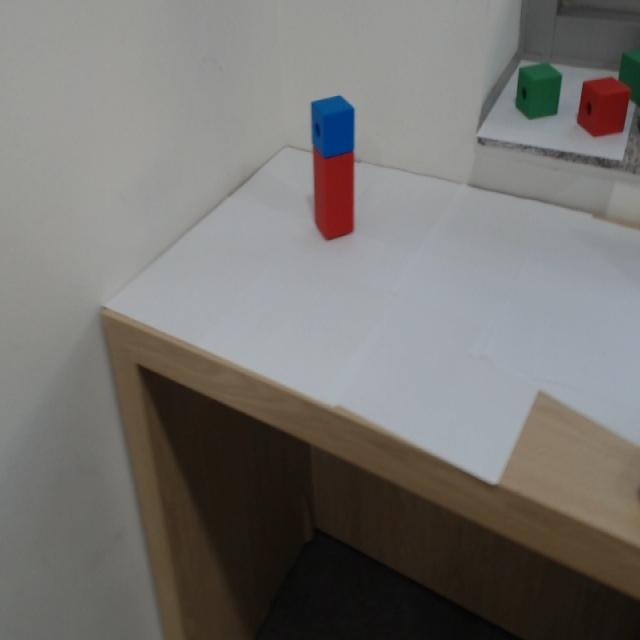cube: (308, 95, 360, 169)
